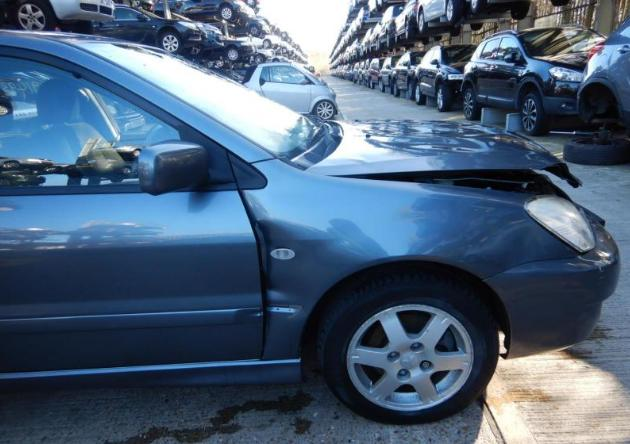Fender: (240, 157, 583, 361)
Front-bumper: (483, 215, 620, 360)
Front-door: (0, 43, 265, 372)
Front-wheel: (316, 272, 500, 427)
Front-window: (0, 55, 179, 186)
Headlight: (524, 197, 594, 253)
Hood: (304, 118, 582, 187)
Mirror: (138, 138, 212, 196)
Rocker-panel: (0, 360, 299, 392)
Roof: (2, 29, 112, 40)
Windshield: (57, 38, 343, 171)
